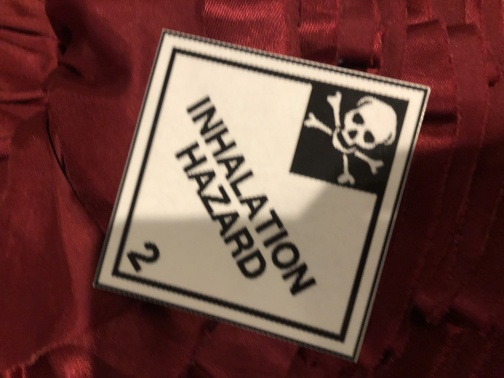InhalationHazard: (91, 26, 433, 365)
